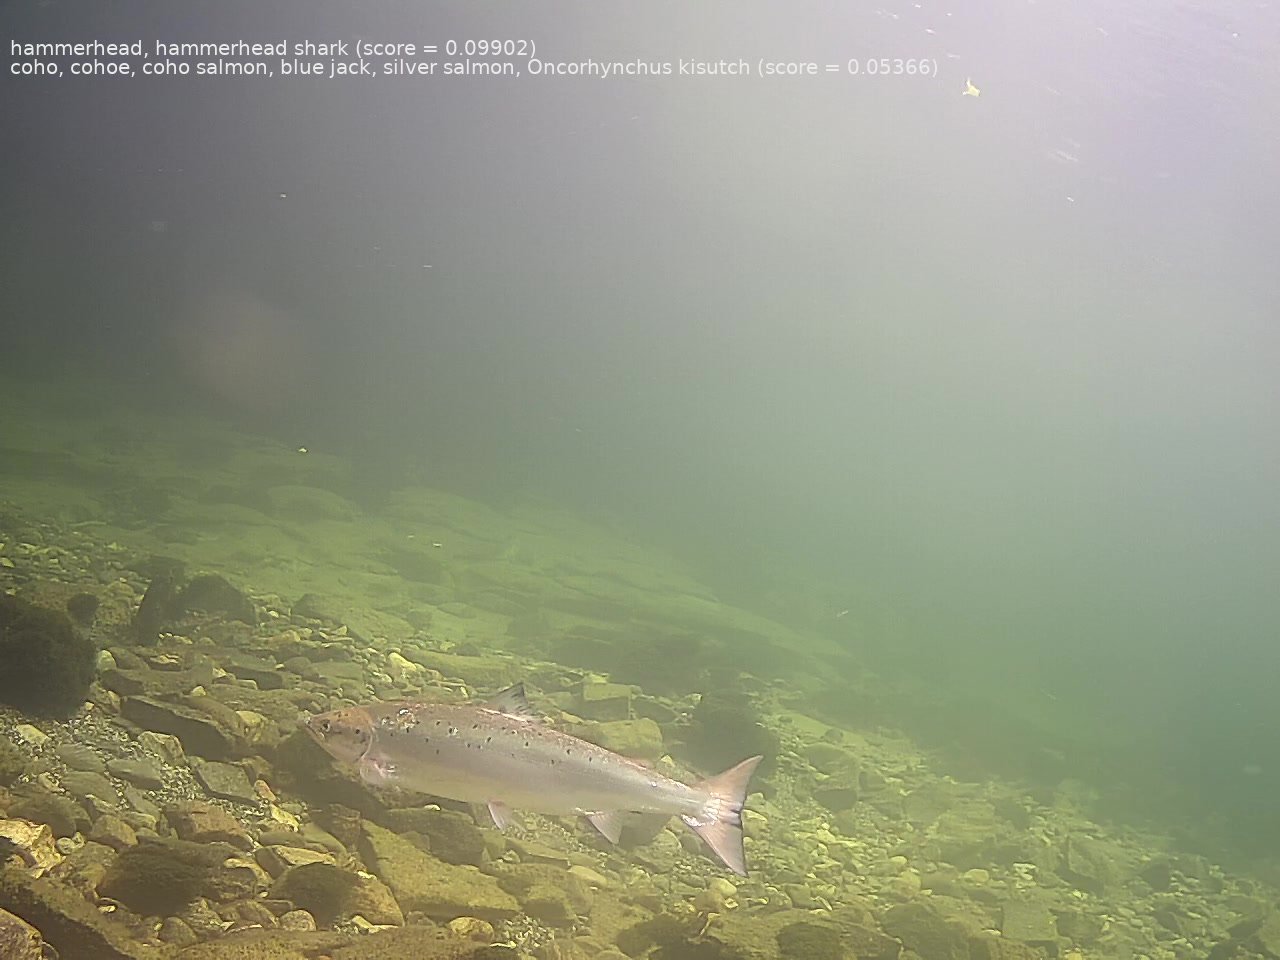salmon: (302, 678, 766, 878)
